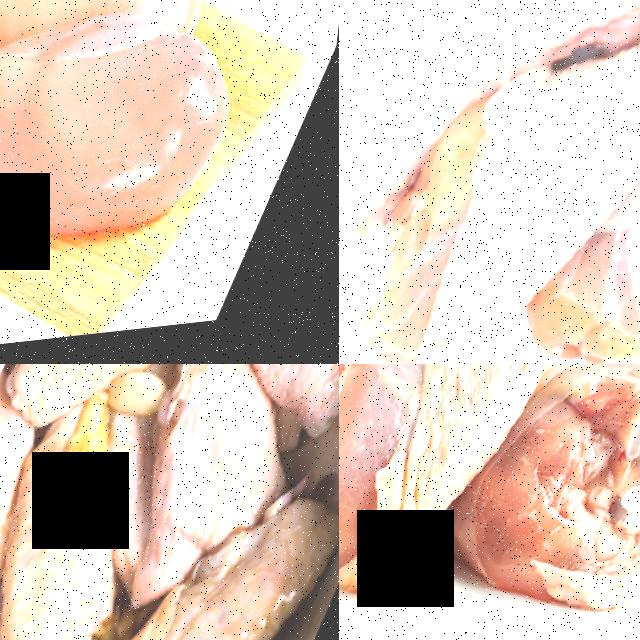chicken breast: (0, 0, 260, 308), (0, 0, 218, 63)
chicken thigh: (343, 0, 640, 364), (339, 0, 640, 327), (339, 364, 640, 640)
